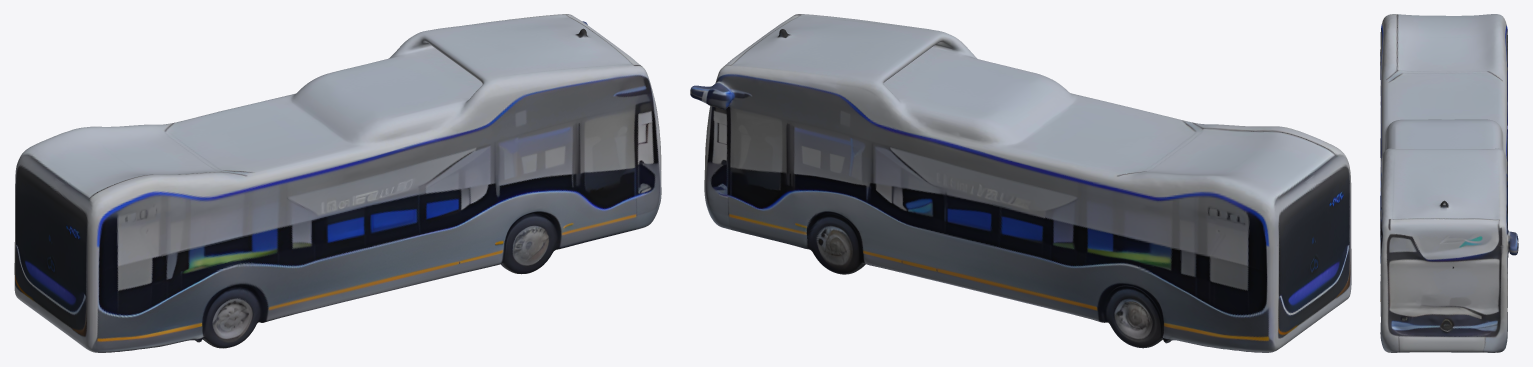
Rendered from busMercs.glb.
3 views of the same model, side by side, from view 1: azimuth 30°, elevation 25°; view 2: azimuth 150°, elevation 25°; view 3: azimuth 270°, elevation 25° (orthographic). The views are drawn at different scales.
Visible parts, largest first — view 1: tripo_node_1511158f-eea2-4006-9700-59ce5d39dbac; view 2: tripo_node_1511158f-eea2-4006-9700-59ce5d39dbac; view 3: tripo_node_1511158f-eea2-4006-9700-59ce5d39dbac.
Part boxes in pixels (x1,y1,x2,y2): tripo_node_1511158f-eea2-4006-9700-59ce5d39dbac: [14, 14, 661, 352]; tripo_node_1511158f-eea2-4006-9700-59ce5d39dbac: [690, 14, 1351, 352]; tripo_node_1511158f-eea2-4006-9700-59ce5d39dbac: [1380, 14, 1518, 352].
Size of the model in its own units: 0.9493 by 0.3142 by 0.2473.
1 material, 1 textured.
